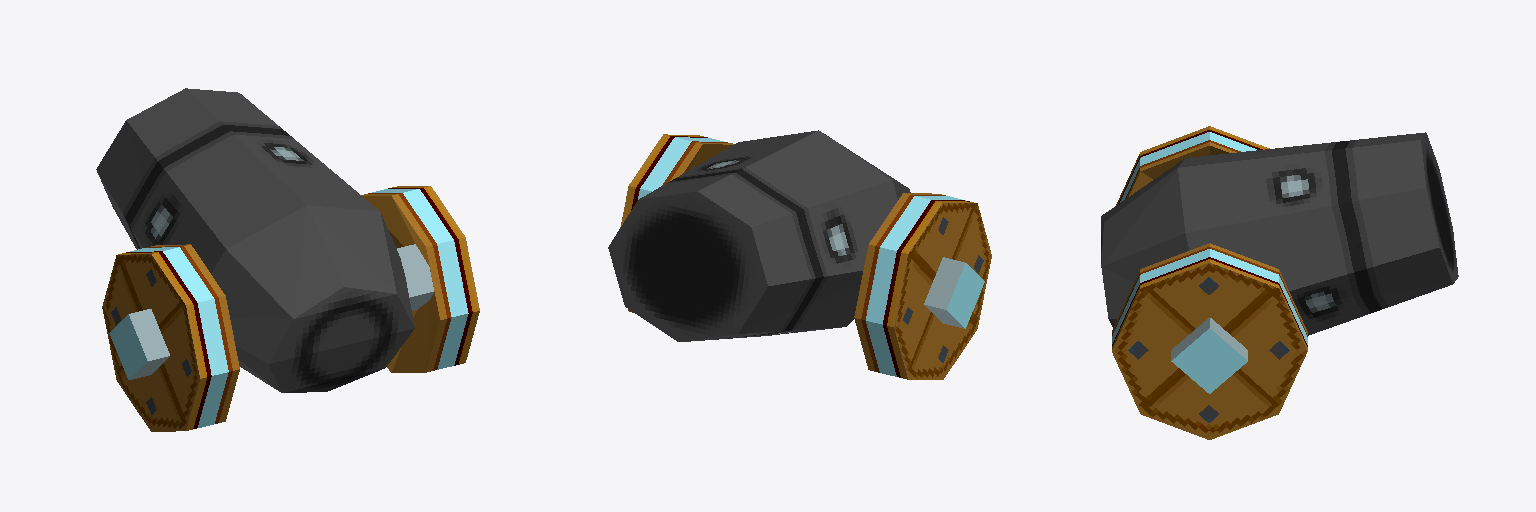
3 renders of one model, left to right at view 1: azimuth 30°, elevation 25°; view 2: azimuth 150°, elevation 25°; view 3: azimuth 270°, elevation 25°, orthographic.
Parts seen in each view (by area): view 1: default; view 2: default; view 3: default.
Boxes of the visible parts, x1=… form: default: x1=96, y1=88, x2=479, y2=431; default: x1=608, y1=130, x2=991, y2=379; default: x1=1101, y1=126, x2=1458, y2=439.
Bounding box in the file's own units: 34.16 × 23.31 × 32.51.
Materials: 1 (1 with a texture image).